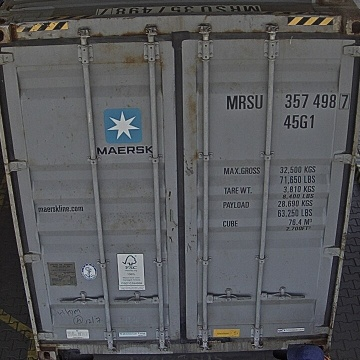serial_id: (227, 93, 349, 109)
